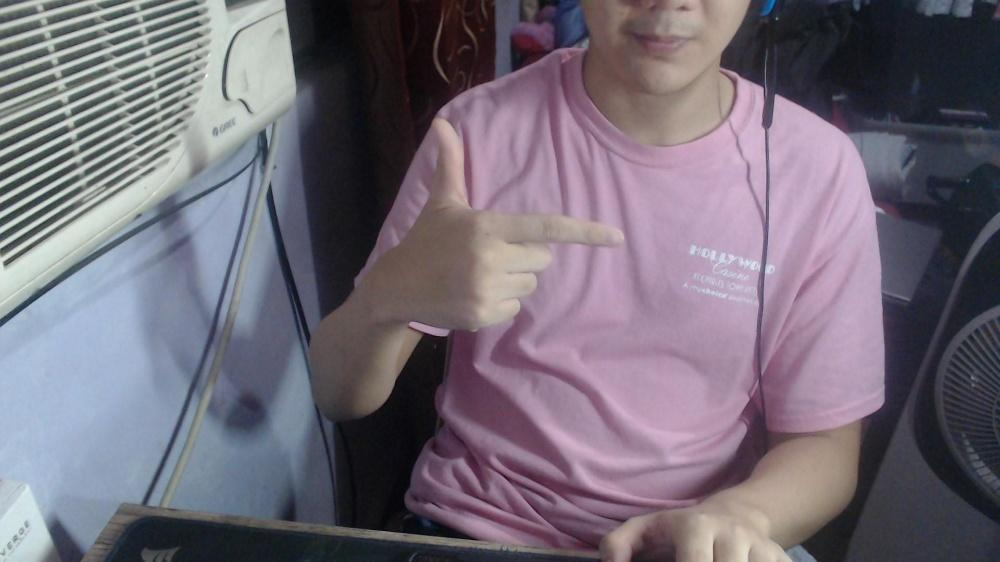g: (389, 115, 626, 332)
